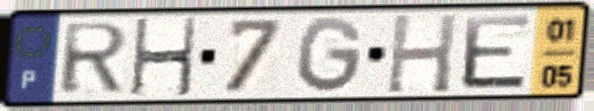7: (223, 16, 285, 96)
E: (459, 13, 535, 92)
G: (295, 14, 367, 96)
H: (383, 12, 461, 96), (128, 15, 200, 99)
R: (57, 20, 133, 97)
